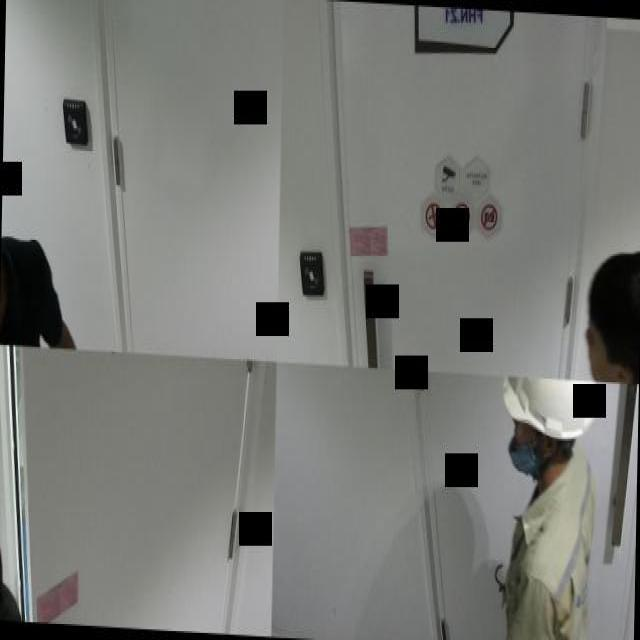hairnet: (508, 394, 546, 474)
